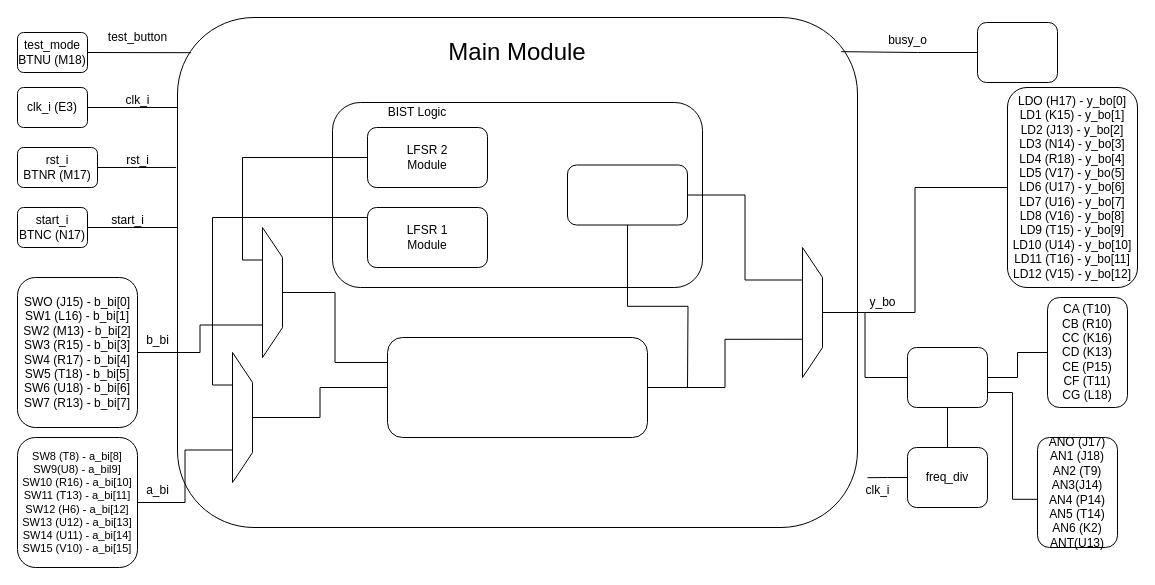
This 1155x585 diagram has some shape labels left out. Here are the shapes that lost their labels. From the top down, the centre of each, then its label:
At (x=1017, y=52): "busy_o LD15 (V11)".
At (x=627, y=194): "CRC 8 Module".
At (x=517, y=387): "FUNC Module".
At (x=947, y=377): "7-led module".
